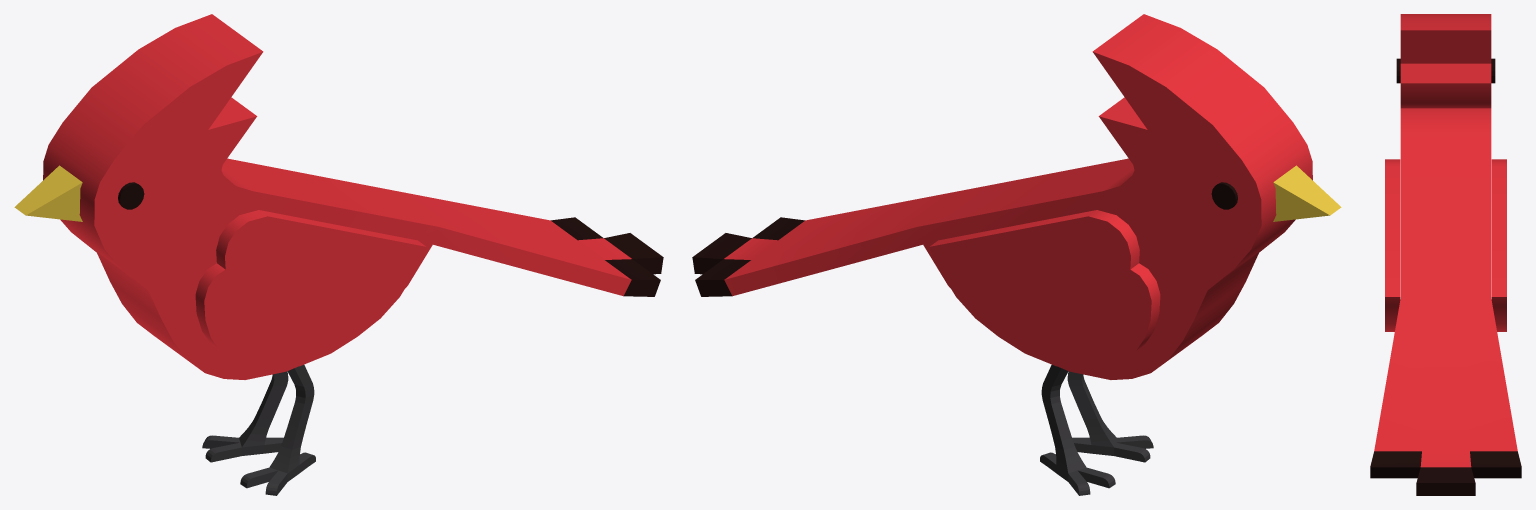
Rendered from Bird.gltf.
The picture shows the model from 3 angles, left to right: view 1: azimuth 30°, elevation 25°; view 2: azimuth 150°, elevation 25°; view 3: azimuth 270°, elevation 25°; orthographic projection. The views are drawn at different scales.
Parts seen in each view (by area): view 1: Plane.153, Cube.109, Cube.050; view 2: Plane.153, Cube.109, Cube.050; view 3: Plane.153, Circle.181.
Boxes of the visible parts, x1,y1,x2,y2 form: Plane.153: (43,14,663,379); Cube.109: (202,365,315,495); Cube.050: (14,165,82,221); Plane.153: (692,14,1312,379); Cube.109: (1040,365,1153,495); Cube.050: (1273,165,1341,221); Plane.153: (1370,14,1521,495); Circle.181: (1396,58,1495,83).
Bounding box in the file's own units: 2.3 × 1.53 × 0.544.
